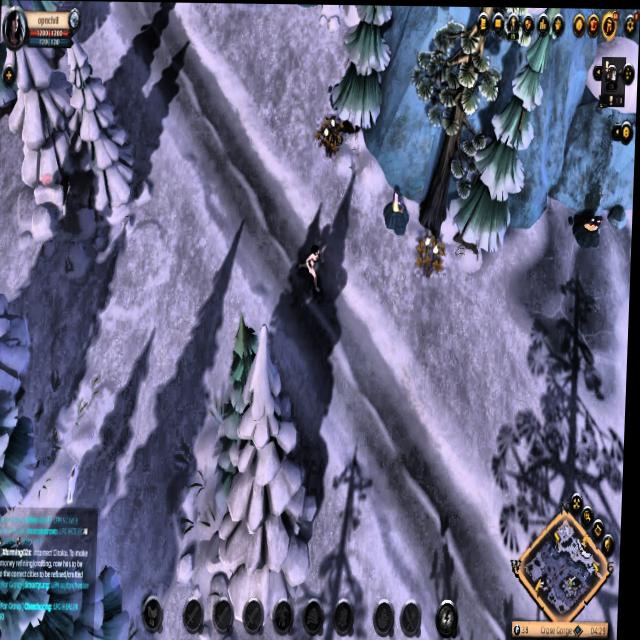copper_ore: (569, 205, 606, 251), (383, 185, 412, 237)
cotton: (313, 111, 349, 161), (415, 229, 449, 279)
